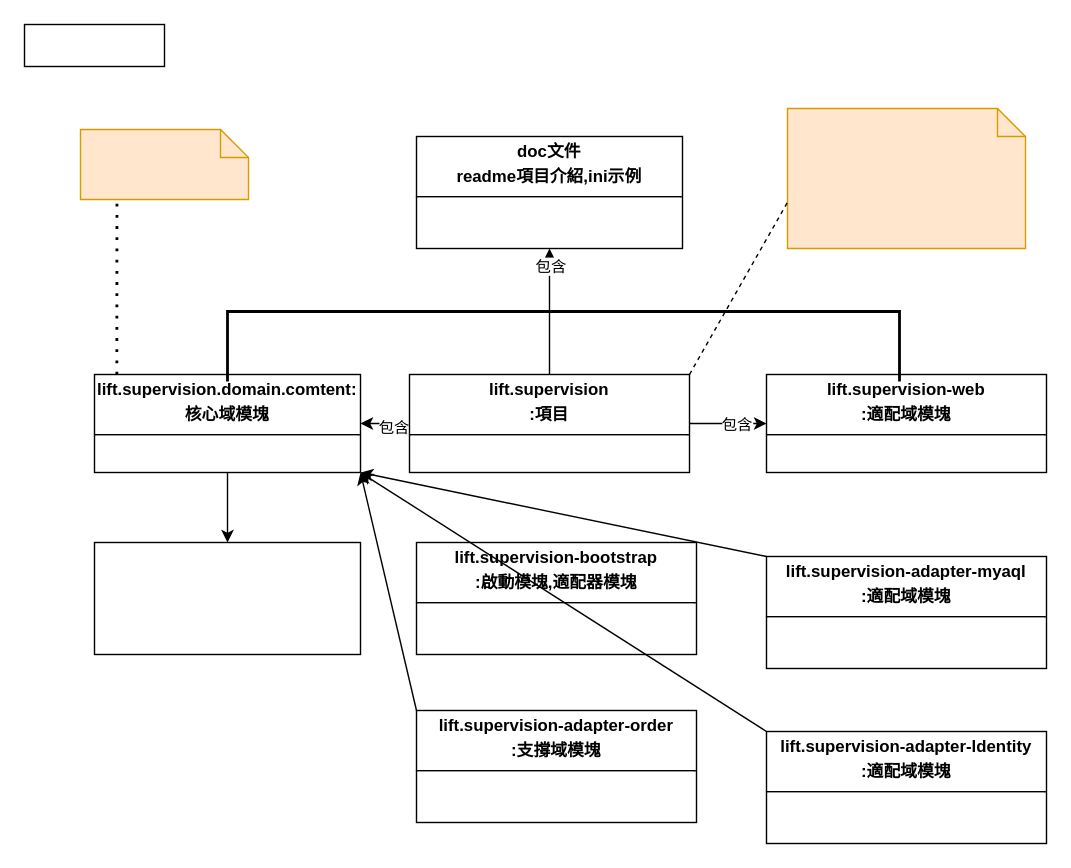
Some shapes in this 1071 by 868 pixel diagram are drawn without their labels. Each missing label, with the centre of its shape:
"lift.supervision-schedulex :適配域模塊" belongs at point 226,597.
"依賴所有適配器模塊" belongs at point 163,164.
"存放文檔,例如項目的介紹以及各種架構設計圖示" belongs at point 906,177.
"電梯監督" belongs at point 93,44.
